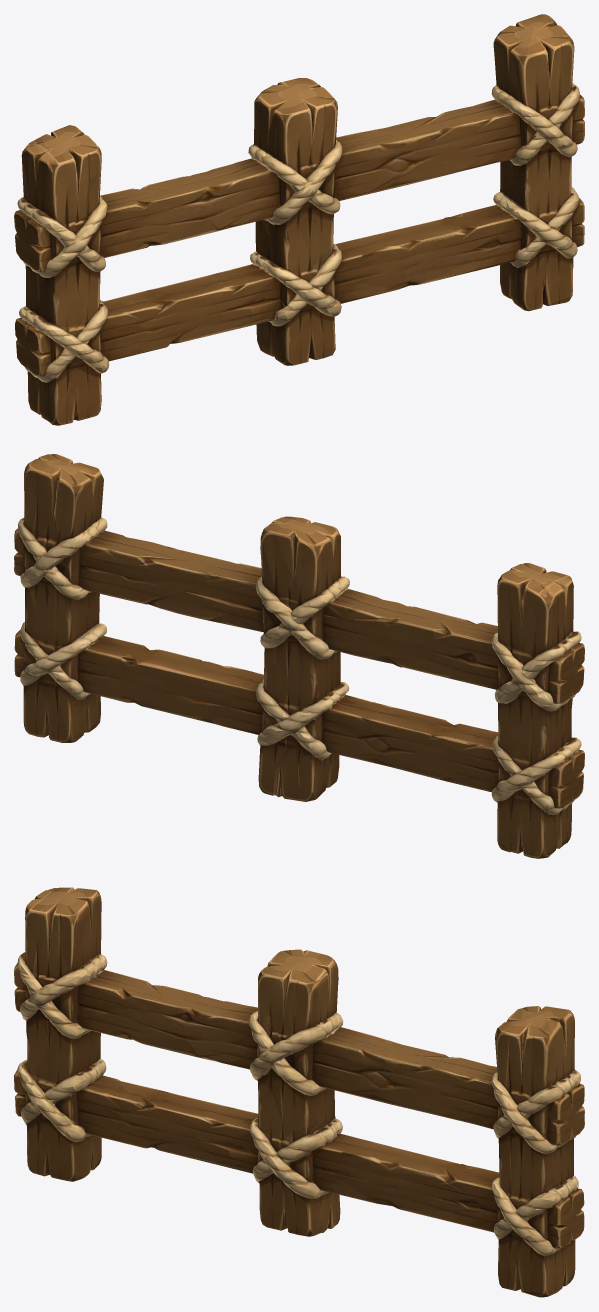
Rendered from prop_fence.glb.
3 renders of one model, top to bottom at view 1: azimuth 30°, elevation 25°; view 2: azimuth 150°, elevation 25°; view 3: azimuth 330°, elevation 25°, orthographic.
Parts seen in each view (by area): view 1: output_unwrapped; view 2: output_unwrapped; view 3: output_unwrapped.
Boxes of the visible parts, x1,y1,x2,y2 form: output_unwrapped: [14, 14, 584, 425]; output_unwrapped: [14, 454, 584, 858]; output_unwrapped: [14, 887, 584, 1297].
Size of the model in its own units: 1.9 by 0.9106 by 0.2621.
1 material, 1 textured.
